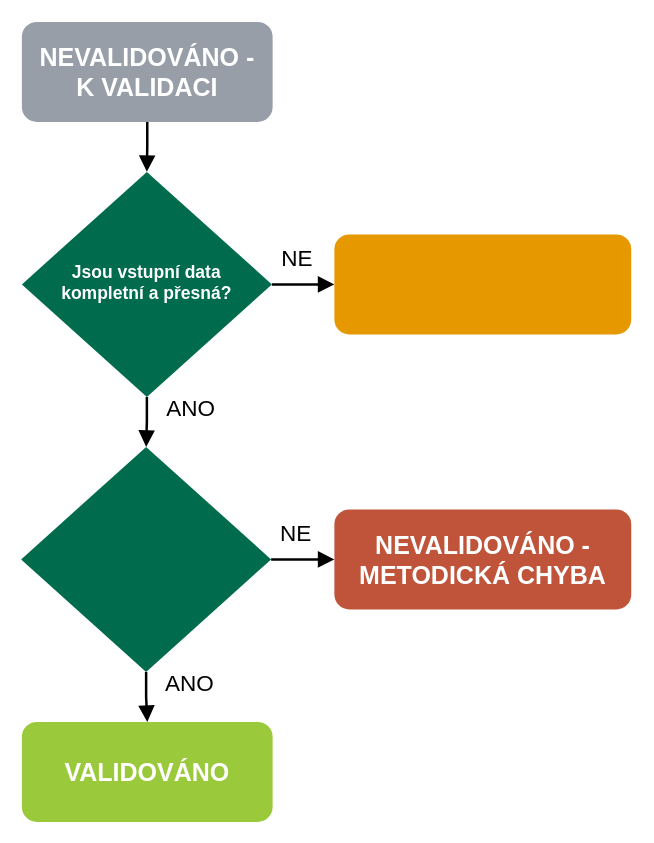
Image size: 654x843. Some labels were removed from this diagram. Here are the shapes that lost their labels. From the top down, the centre of each, then its label:
At (x=482, y=284): "NEVALIDOVÁNO - CHYBNÁ DATA".
At (x=145, y=558): "Odpovídá metodika sledování stavu nárokům cílového fenoménu?".
